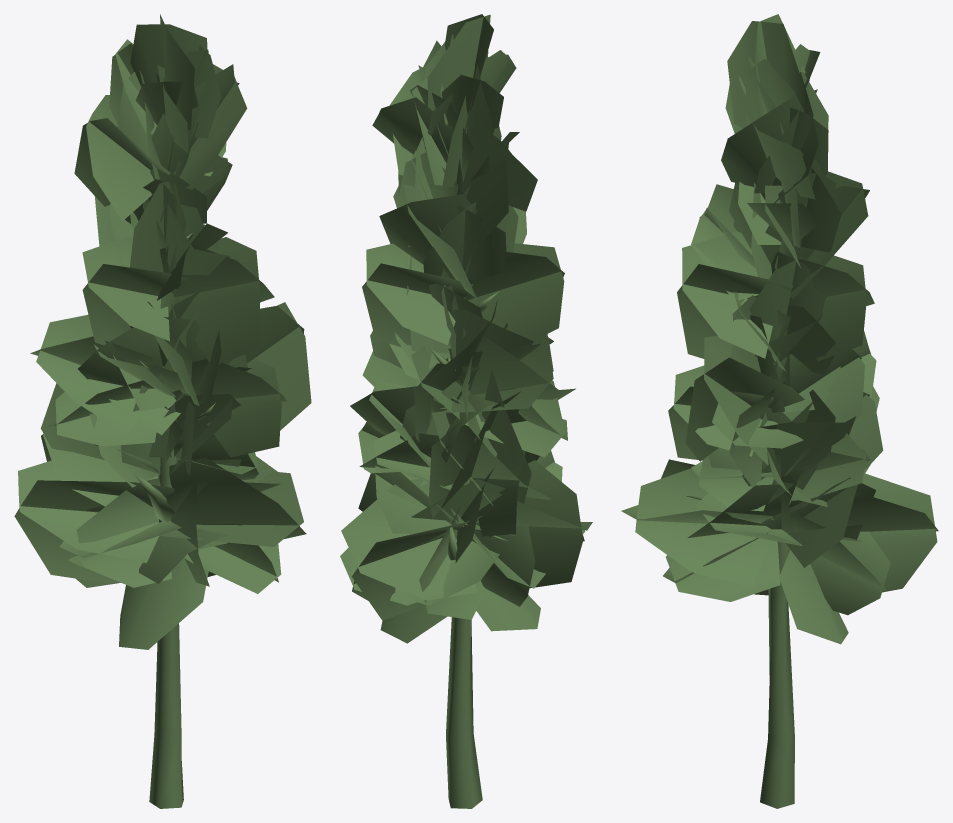
Rendered from Tree1.fbx.
3 views of the same model, side by side, from view 1: azimuth 30°, elevation 25°; view 2: azimuth 150°, elevation 25°; view 3: azimuth 270°, elevation 25° (orthographic).
Visible parts, largest first — view 1: Tree1; view 2: Tree1; view 3: Tree1.
Part boxes in pixels (x1=…): Tree1: x1=14, y1=14, x2=311, y2=808; Tree1: x1=340, y1=14, x2=592, y2=808; Tree1: x1=621, y1=14, x2=938, y2=808.
Bounding box in the file's own units: 320 × 961 × 357.
